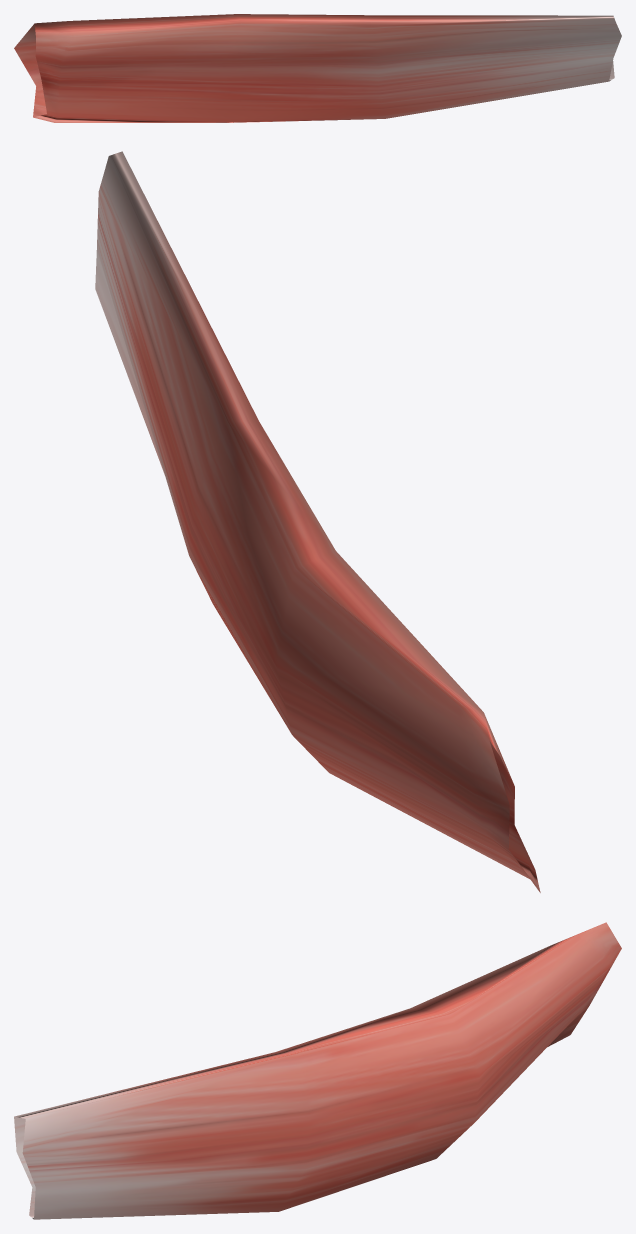
File: Obliqus_Capitis_Inferior_Muscle_Left.obj
3 renders of one model, top to bottom at view 1: azimuth 30°, elevation 25°; view 2: azimuth 150°, elevation 25°; view 3: azimuth 270°, elevation 25°, orthographic. The views are drawn at different scales.
Visible parts, largest first — view 1: Thyrohyoid_Muscle_Right:Thyrohyoid_Muscle_Right_Mesh Thyrohyoid_; view 2: Thyrohyoid_Muscle_Right:Thyrohyoid_Muscle_Right_Mesh Thyrohyoid_; view 3: Thyrohyoid_Muscle_Right:Thyrohyoid_Muscle_Right_Mesh Thyrohyoid_.
Boxes of the visible parts, left/top/right/bottom form: Thyrohyoid_Muscle_Right:Thyrohyoid_Muscle_Right_Mesh Thyrohyoid_: left=14, top=14, right=621, bottom=122; Thyrohyoid_Muscle_Right:Thyrohyoid_Muscle_Right_Mesh Thyrohyoid_: left=95, top=151, right=540, bottom=892; Thyrohyoid_Muscle_Right:Thyrohyoid_Muscle_Right_Mesh Thyrohyoid_: left=14, top=922, right=621, bottom=1219.
Size of the model in its own units: 0.3702 by 0.1287 by 0.3212.
